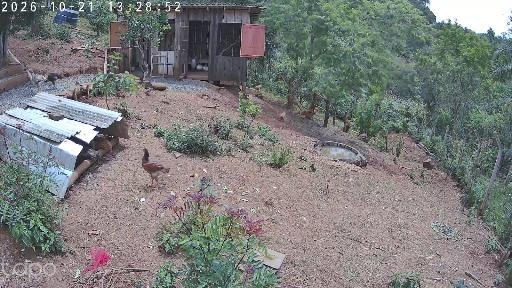frango: (28, 67, 46, 93)
galinha: (141, 148, 172, 193), (48, 72, 62, 90), (279, 111, 288, 123), (254, 84, 262, 92)
galo: (302, 105, 314, 120)
pato: (196, 63, 203, 73), (203, 64, 209, 73)
